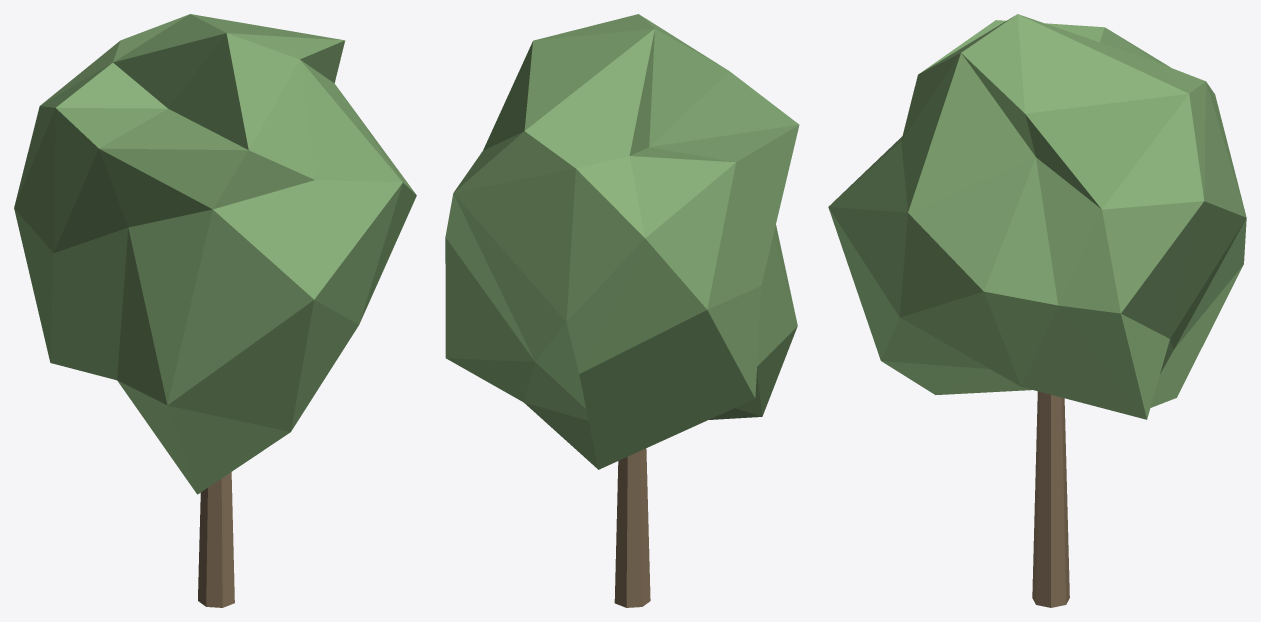
File: nature_tree_deciduous_02.glb
3 views of the same model, side by side, from view 1: azimuth 30°, elevation 25°; view 2: azimuth 150°, elevation 25°; view 3: azimuth 270°, elevation 25° (orthographic). The views are drawn at different scales.
Parts seen in each view (by area): view 1: geometry_0; view 2: geometry_0; view 3: geometry_0.
Boxes of the visible parts, x1,y1,x2,y2 form: geometry_0: [14, 14, 416, 607]; geometry_0: [445, 14, 799, 607]; geometry_0: [828, 14, 1246, 607].
Size of the model in its own units: 2.65 by 4.67 by 3.04.
